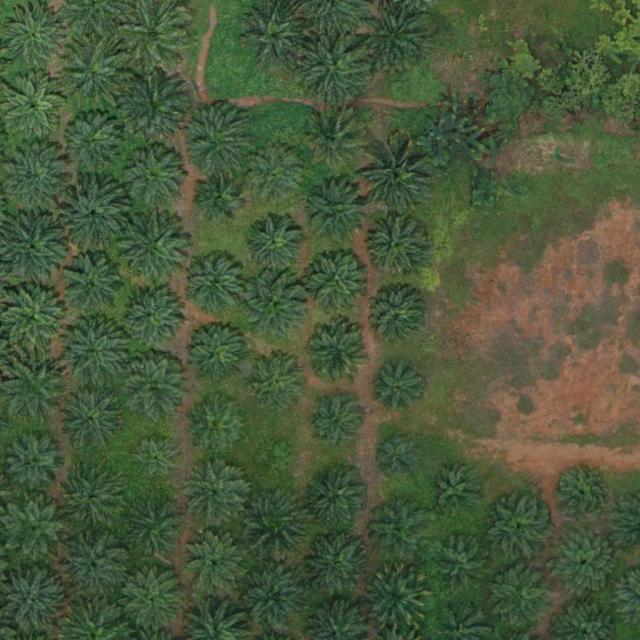Healthy: (301, 464, 372, 535), (61, 319, 132, 390), (550, 529, 621, 600), (3, 141, 73, 212), (57, 36, 127, 107), (58, 174, 128, 245), (120, 70, 190, 141), (118, 141, 188, 212), (182, 108, 252, 179), (304, 179, 374, 250), (302, 246, 372, 317), (361, 9, 432, 79), (238, 270, 308, 341), (240, 487, 310, 558), (59, 532, 129, 603), (363, 143, 433, 213), (119, 215, 189, 285), (241, 2, 311, 72), (301, 35, 371, 105), (302, 532, 372, 602), (239, 564, 309, 634), (2, 73, 65, 136), (180, 254, 243, 317), (365, 214, 428, 277), (187, 394, 250, 457), (182, 461, 245, 524), (182, 531, 245, 594), (122, 285, 185, 348), (124, 496, 187, 559), (60, 386, 123, 449), (4, 434, 67, 497), (4, 498, 67, 561), (495, 567, 558, 630), (307, 111, 369, 174), (62, 109, 125, 171), (62, 255, 124, 318), (244, 144, 307, 206), (242, 214, 305, 276), (367, 285, 429, 348), (367, 499, 429, 562), (249, 351, 311, 414), (185, 319, 247, 382), (123, 355, 185, 418), (123, 569, 185, 632), (59, 469, 121, 532), (487, 499, 550, 561), (305, 323, 367, 385), (370, 363, 425, 418), (429, 464, 484, 519), (439, 539, 494, 594), (308, 396, 363, 451), (555, 466, 609, 521), (195, 172, 242, 220)
Small: (131, 437, 178, 484), (378, 438, 417, 477), (254, 440, 293, 479)
Yellow: (362, 564, 432, 634)
